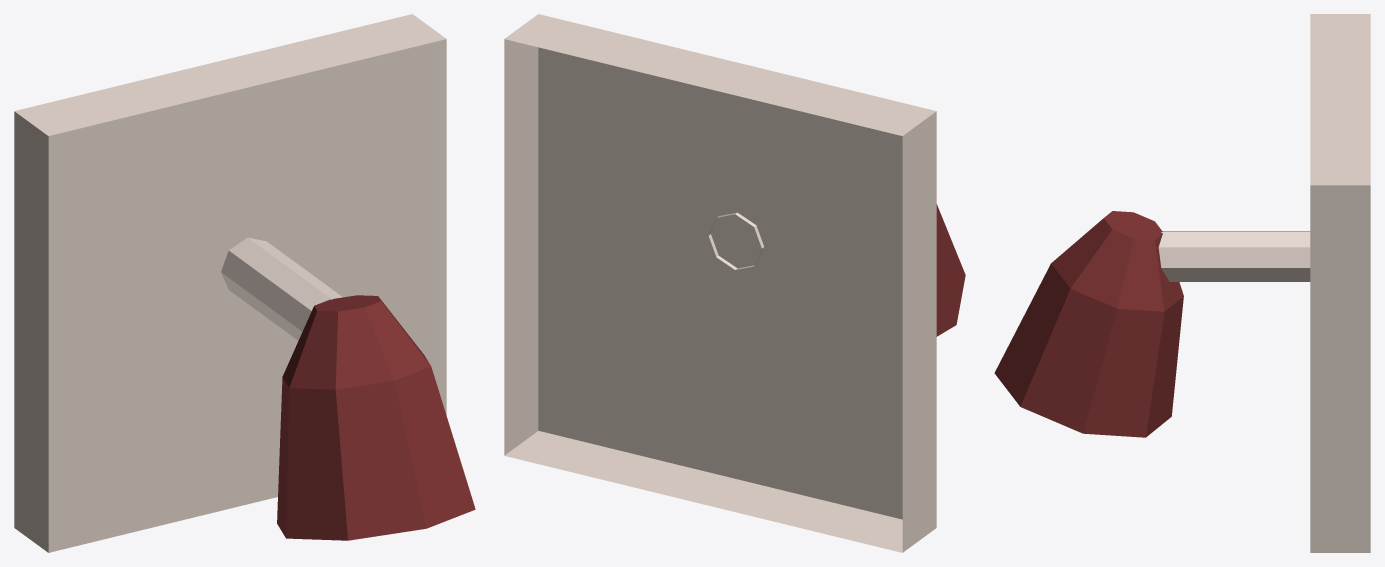
Rendered from Lamp_10.fbx.
The picture shows the model from 3 angles, left to right: view 1: azimuth 30°, elevation 25°; view 2: azimuth 150°, elevation 25°; view 3: azimuth 270°, elevation 25°; orthographic projection. The views are drawn at different scales.
Parts seen in each view (by area): view 1: Lamp_10; view 2: Lamp_10; view 3: Lamp_10.
Boxes of the visible parts, left/top/right/bottom form: Lamp_10: left=14, top=14, right=475, bottom=552; Lamp_10: left=504, top=14, right=965, bottom=552; Lamp_10: left=994, top=14, right=1370, bottom=552.
Size of the model in its own units: 20.23 by 18.76 by 20.23.
